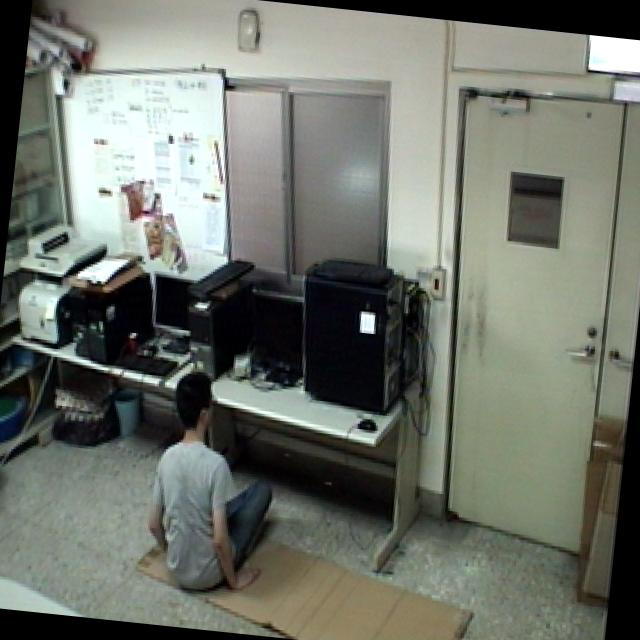sit: (134, 364, 294, 601)
